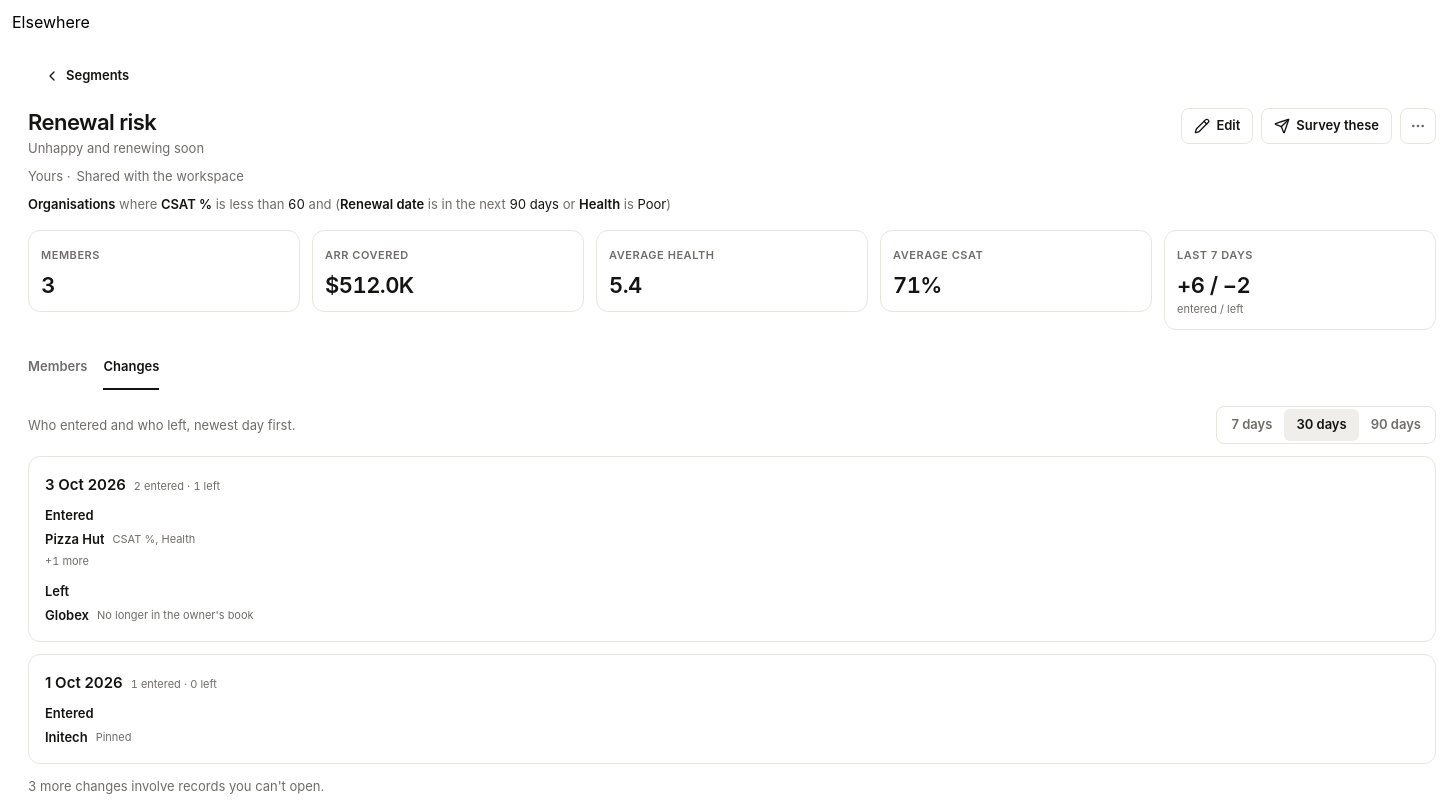
Test: /segments/:id (spec §3) › opens on the Changes tab from the alert's link, and switches tabs in the URL
Check: the panel named "Changes" is shown, box [28,406,1436,796]
Click the tab "Members" at (58, 368), box [28,346,88,390]
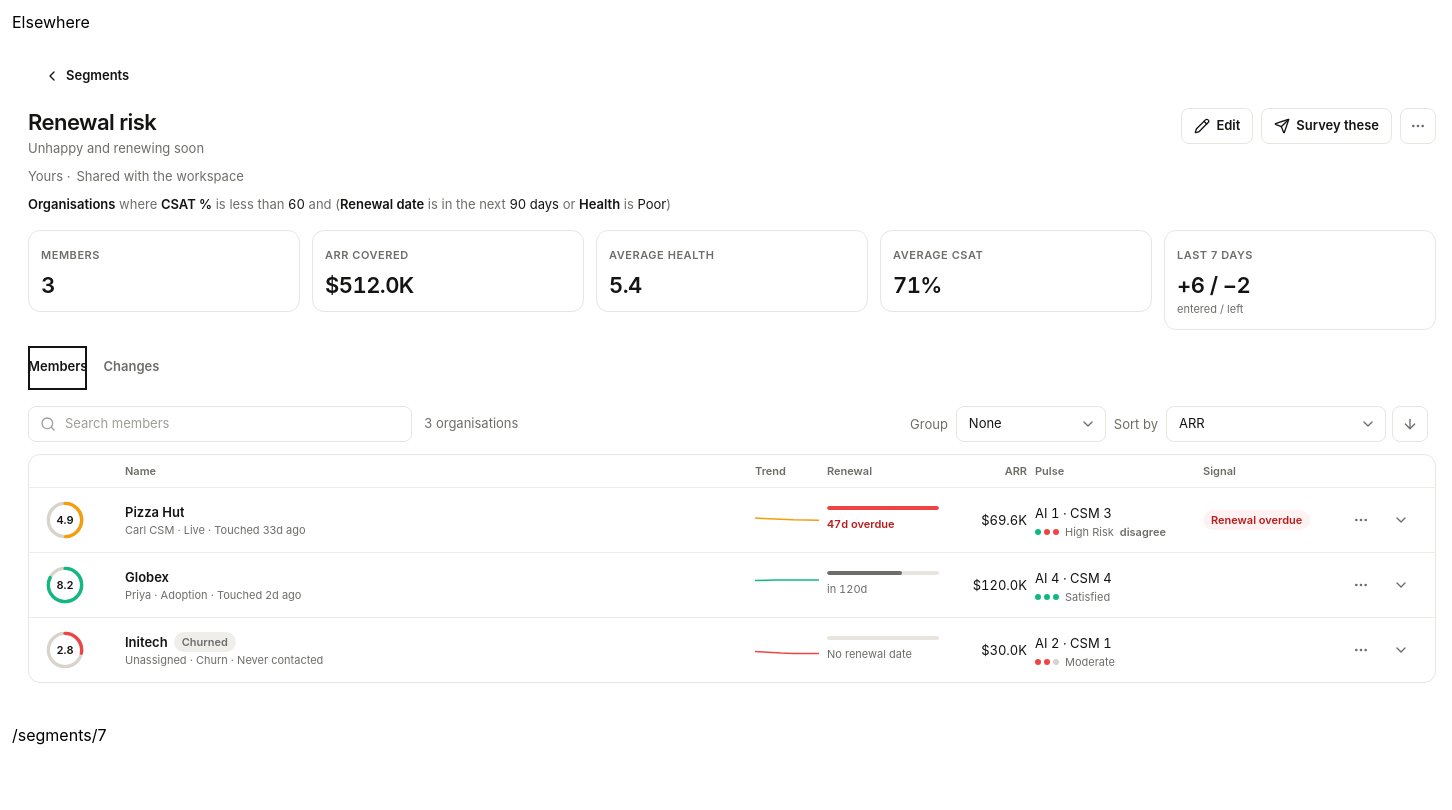
Check: the text with test id "where" reads "/segments/7", box [12,725,106,745]
Check: the panel named "Members" is shown, box [28,406,1436,683]
